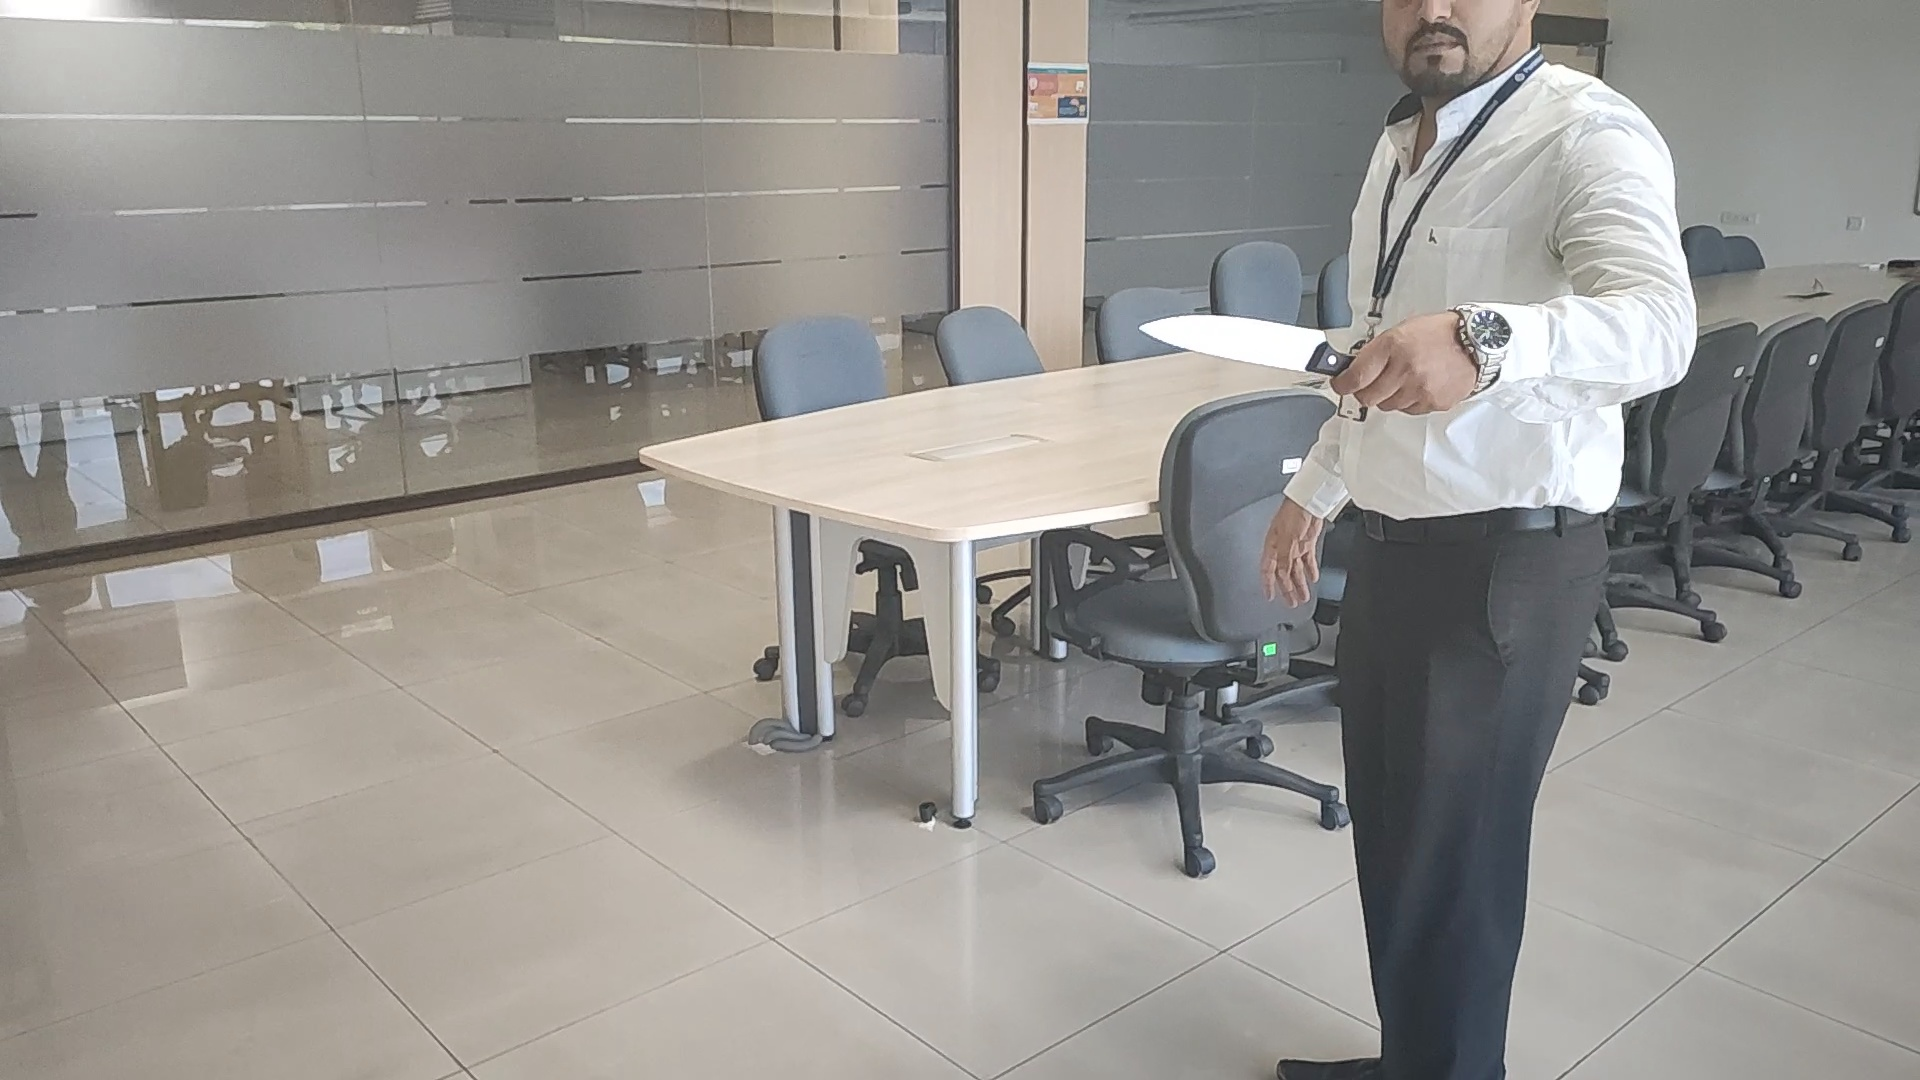knife: (1142, 310, 1352, 373)
